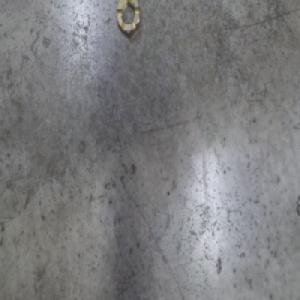Nut: (115, 0, 142, 36)
